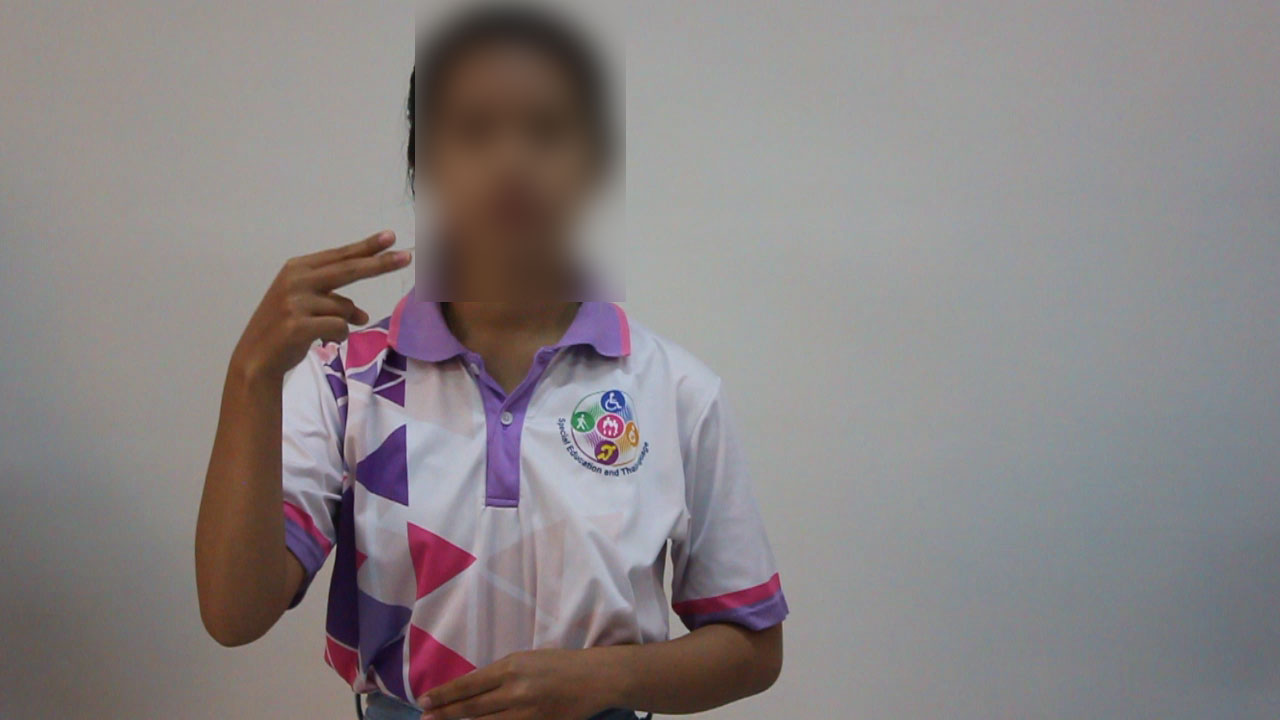hor: (224, 222, 429, 389)
